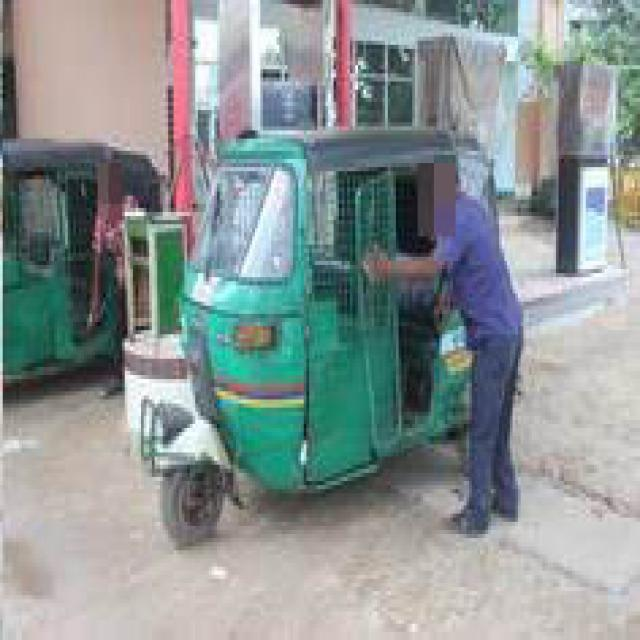CNG: (106, 108, 547, 549), (1, 119, 209, 408)
